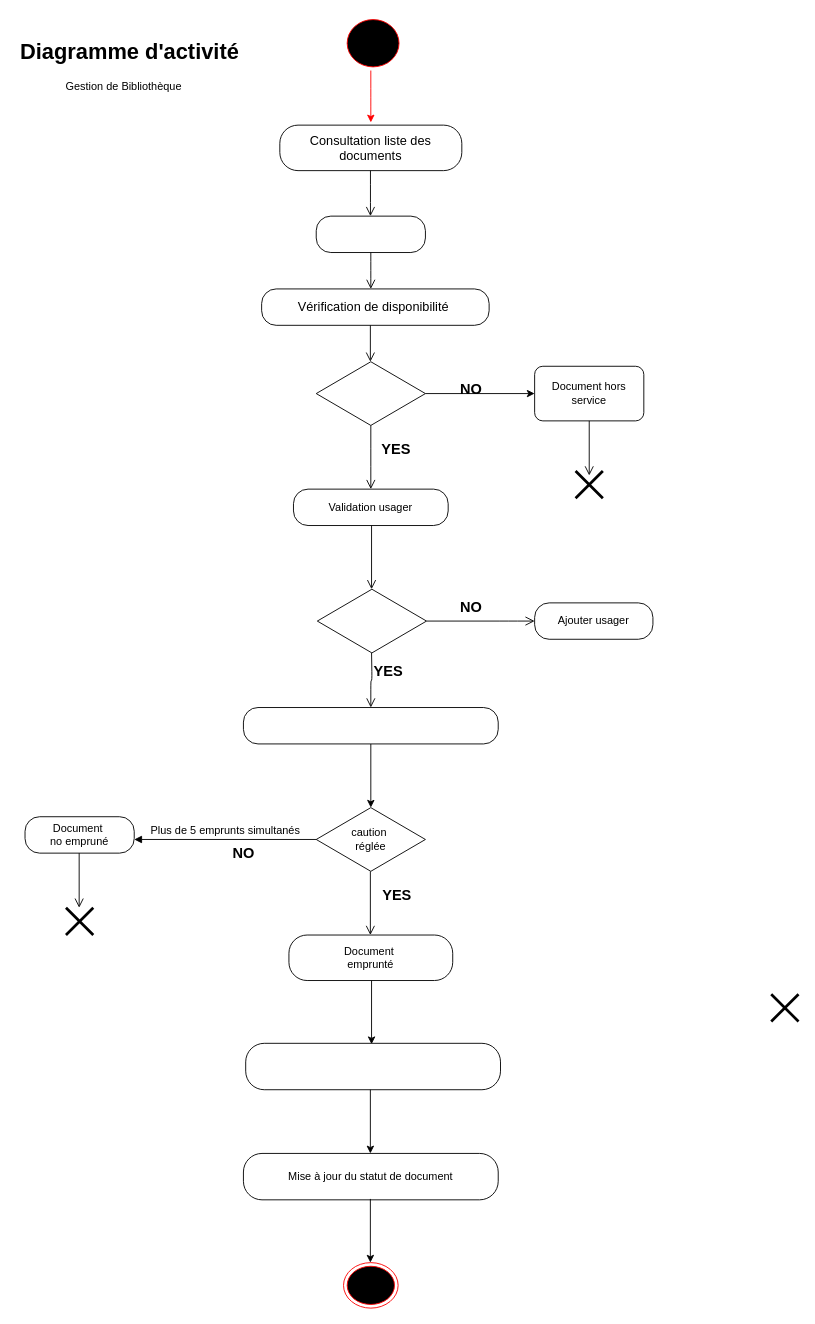
The diagram is 815 pixels wide and 1324 high, and some of its shapes have lost their labels. The shapes that lost their labels are listed below. From the top down, each one's centre as x and y in pixels, then its label:
point 370,234: Authentification
point 370,393: Document disponible
point 371,620: Usager disponible
point 370,725: Vérification de nombre de documents prêtés usager
point 372,1066: Ajouter détail d'usager, document et de l'emission
